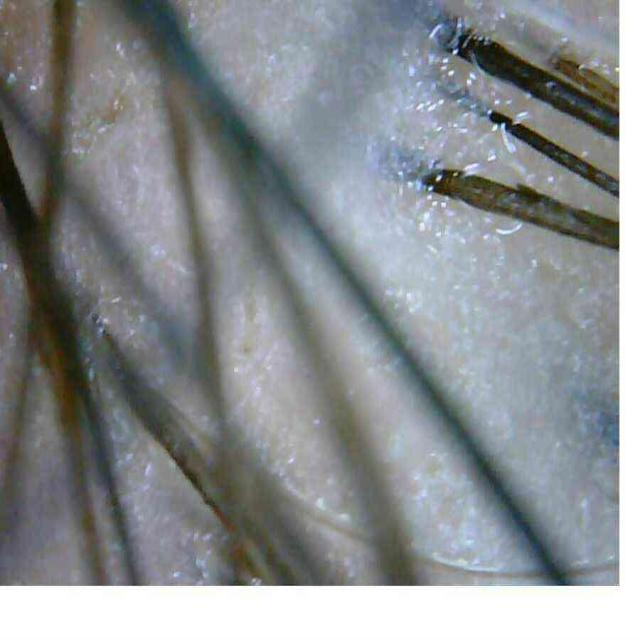o: (426, 12, 567, 241)
